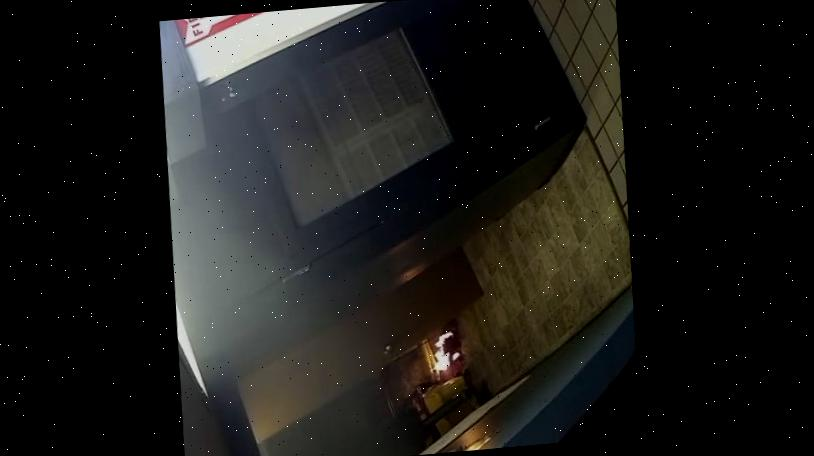fire: (406, 313, 482, 386)
